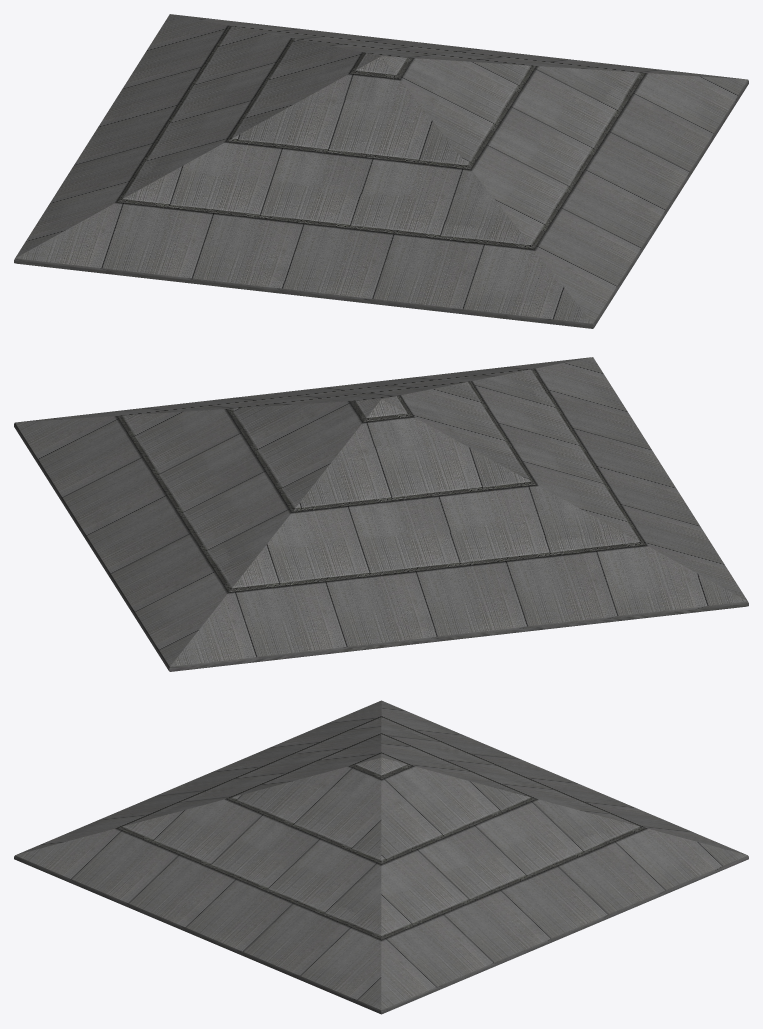
Rendered from Roof_Pramid_CLG.fbx.
The picture shows the model from 3 angles, top to bottom: view 1: azimuth 30°, elevation 25°; view 2: azimuth 150°, elevation 25°; view 3: azimuth 270°, elevation 25°; orthographic projection. The views are drawn at different scales.
Visible parts, largest first — view 1: pPyramid1; view 2: pPyramid1; view 3: pPyramid1.
Boxes of the visible parts, left/top/right/bottom form: pPyramid1: left=14, top=14, right=748, bottom=328; pPyramid1: left=14, top=357, right=748, bottom=671; pPyramid1: left=14, top=700, right=748, bottom=1014.
Bounding box in the file's own units: 104 × 16.04 × 104.
